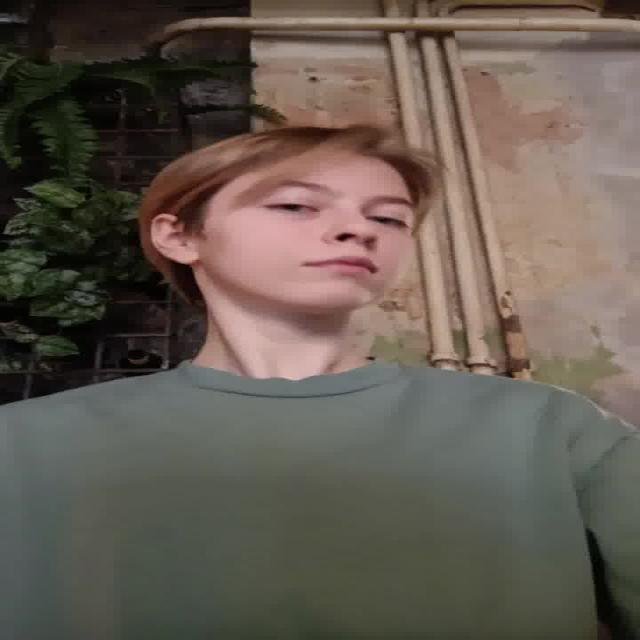earlobe: (150, 214, 198, 265)
